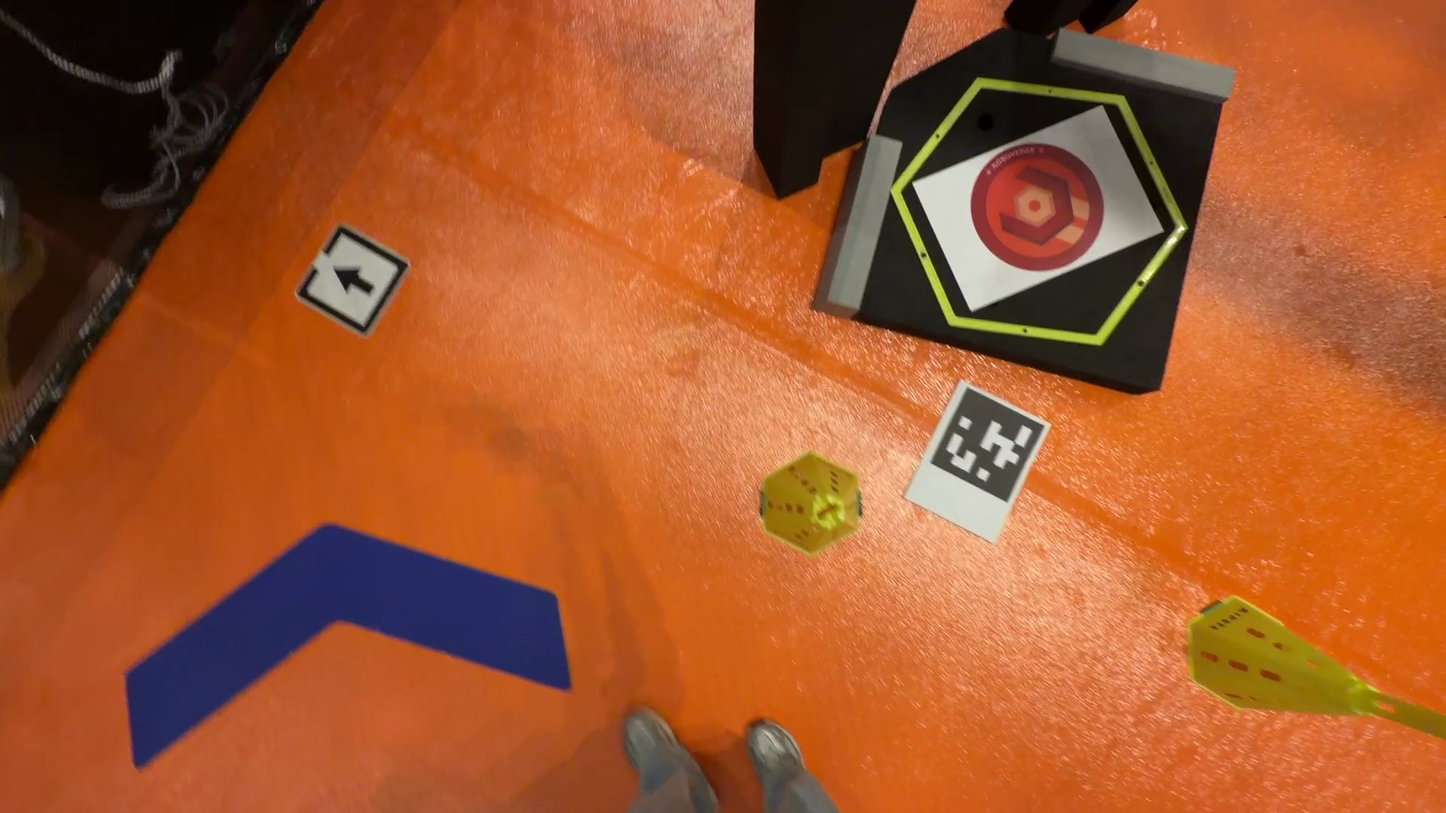landing_pad: (970, 145, 1106, 277)
